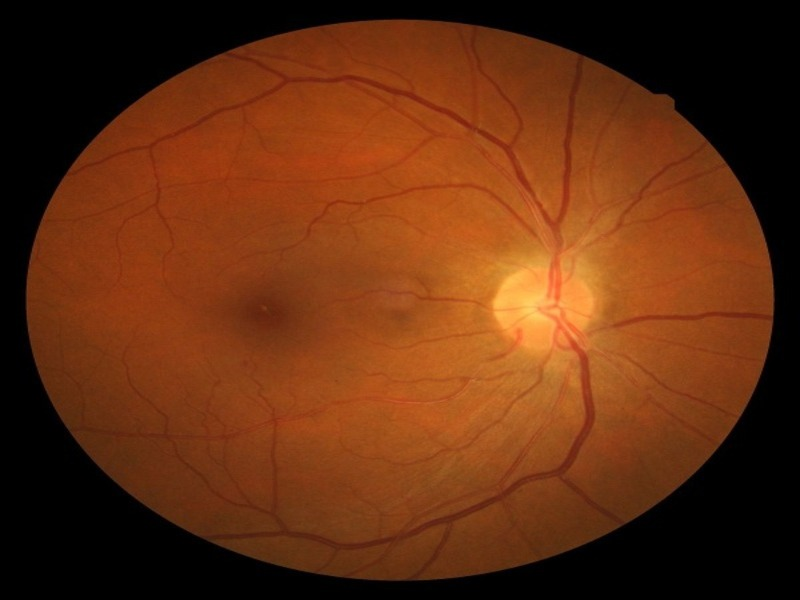Optic Cup: (531, 293, 561, 318)
Optic Disc: (492, 263, 596, 351)
